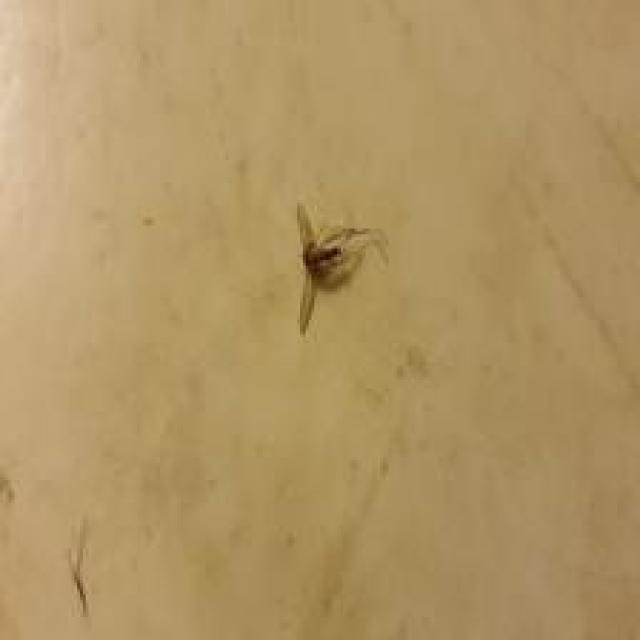Culex: (293, 201, 390, 336)
